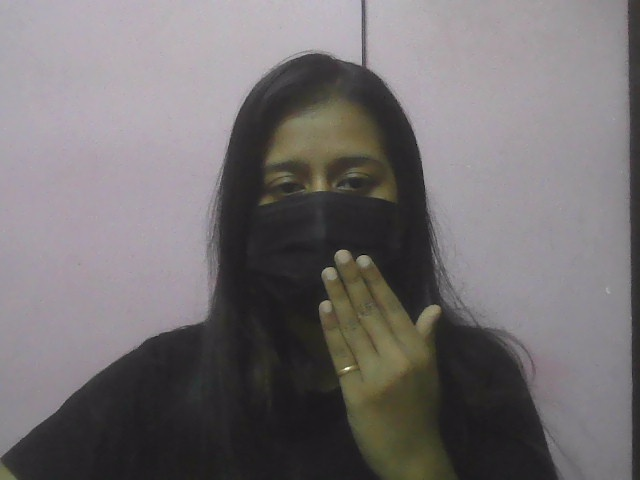Thank you: (307, 249, 466, 477)
